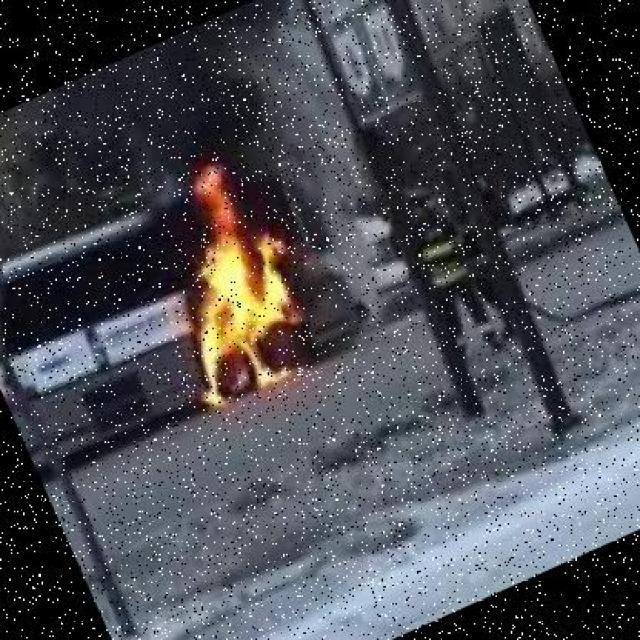fire: (108, 138, 349, 412)
